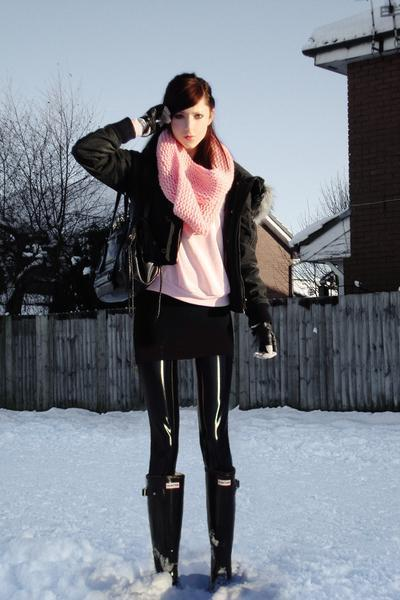jacket: (71, 117, 275, 347)
pants: (133, 287, 239, 485)
shirt: (147, 208, 247, 323)
shoe: (145, 472, 238, 587)
